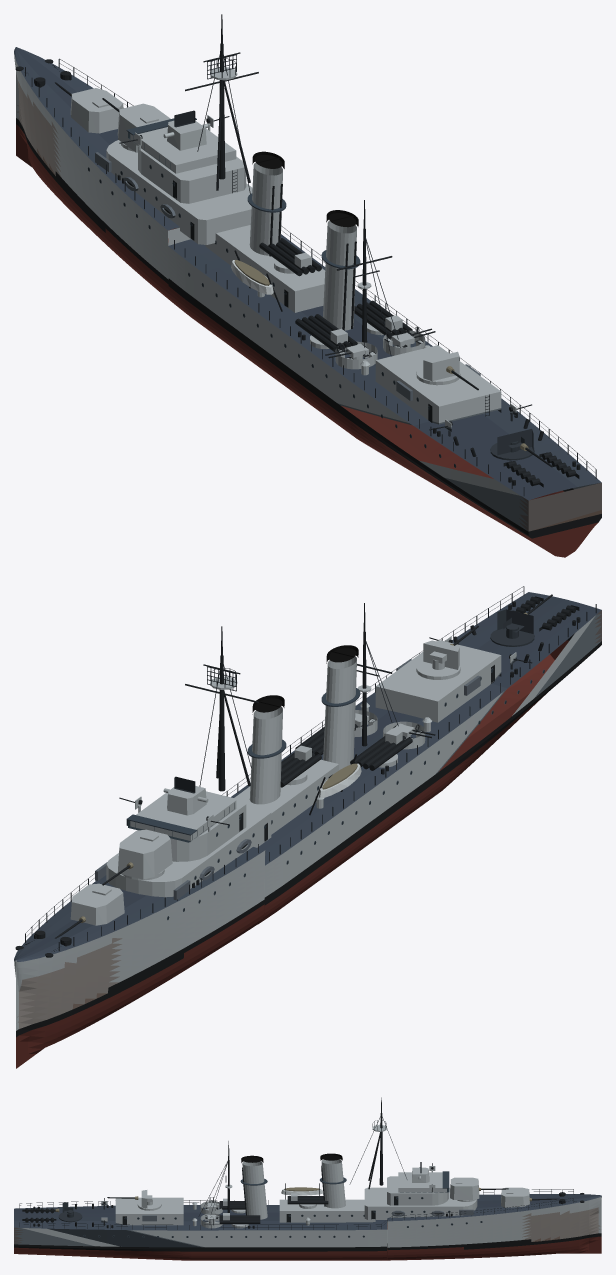
Rendered from mahan_m22.glb.
3 views of the same model, one above another, from view 1: azimuth 30°, elevation 25°; view 2: azimuth 150°, elevation 25°; view 3: azimuth 270°, elevation 25° (orthographic). The views are drawn at different scales.
Visible parts, largest first — view 1: Hull, Mount51, Torpedo3, Torpedo1, Mount52, Director, Mount53, Torpedo2, Mount54; view 2: Hull, Mount52, Mount51, Mount53, Mount54, Torpedo3, Director, Torpedo1; view 3: Hull, Mount52, Mount51, Torpedo2, Torpedo1, Mount53, Mount54, Director, Torpedo3.
Boxes of the visible parts, box(x1,y1,x2,y2) form: Hull: box(14, 14, 601, 557); Mount51: box(55, 82, 123, 133); Torpedo3: box(295, 314, 357, 352); Torpedo1: box(259, 238, 321, 276); Mount52: box(102, 98, 170, 152); Director: box(163, 110, 208, 150); Mount53: box(416, 351, 478, 390); Torpedo2: box(354, 300, 412, 338); Mount54: box(490, 429, 552, 467); Hull: box(14, 586, 601, 1068); Mount52: box(102, 829, 172, 885); Mount51: box(55, 883, 124, 938); Mount53: box(416, 625, 478, 679); Mount54: box(490, 594, 552, 646); Torpedo3: box(350, 729, 412, 770); Director: box(163, 776, 208, 815); Torpedo1: box(280, 745, 321, 787); Hull: box(14, 1097, 601, 1260); Mount52: box(450, 1177, 508, 1201); Mount51: box(501, 1187, 559, 1207); Torpedo2: box(219, 1213, 260, 1228); Torpedo1: box(287, 1193, 328, 1208); Mount53: box(107, 1190, 161, 1210); Mount54: box(28, 1202, 82, 1222); Director: box(412, 1162, 429, 1182); Torpedo3: box(219, 1198, 245, 1213).
Bounding box in the file's own units: 12 × 30.48 × 104.
